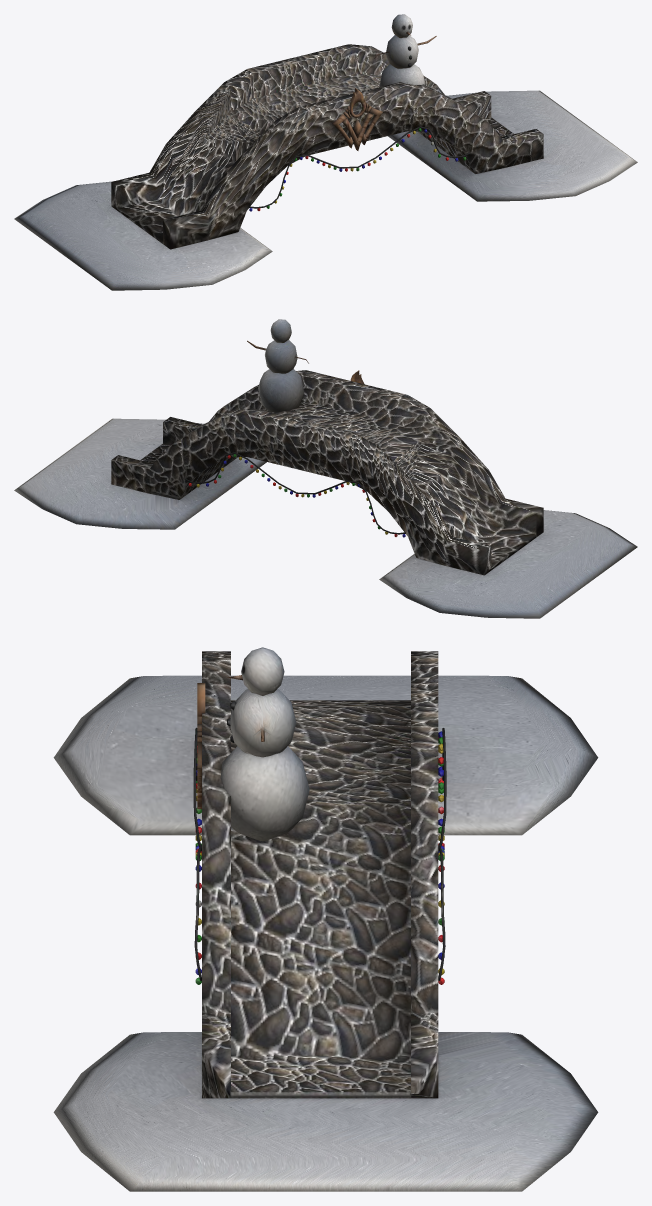
The model's file is track5Structure1.glb.
The picture shows the model from 3 angles, top to bottom: view 1: azimuth 30°, elevation 25°; view 2: azimuth 150°, elevation 25°; view 3: azimuth 270°, elevation 25°; orthographic projection. The views are drawn at different scales.
Visible parts, largest first — view 1: Icosphere.001; view 2: Icosphere.001; view 3: Icosphere.001.
Part boxes in pixels (box(x1,y1,x2,y2)): Icosphere.001: box(14, 14, 637, 290); Icosphere.001: box(14, 319, 637, 618); Icosphere.001: box(53, 647, 598, 1191).
Bounding box in the file's own units: 16.92 × 5.31 × 7.59.
Materials: 1 (1 with a texture image).
